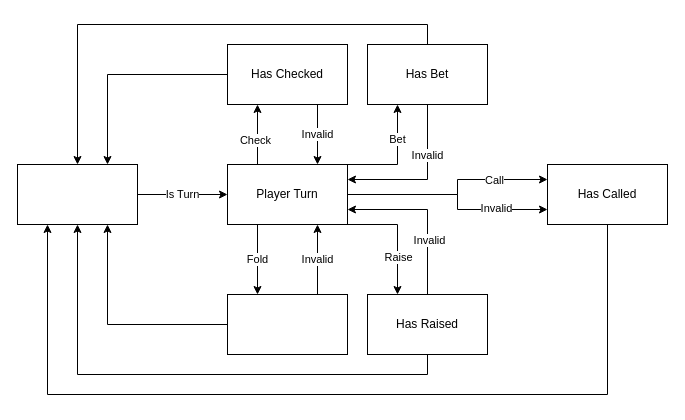
Some shapes in this 685 by 420 pixel diagram are drawn without their labels. The shapes that lost their labels are listed below. From the top down, each one's centre as x and y in pixels, then its label:
At (77,194): "Wait".
At (287,324): "Has Folded".
